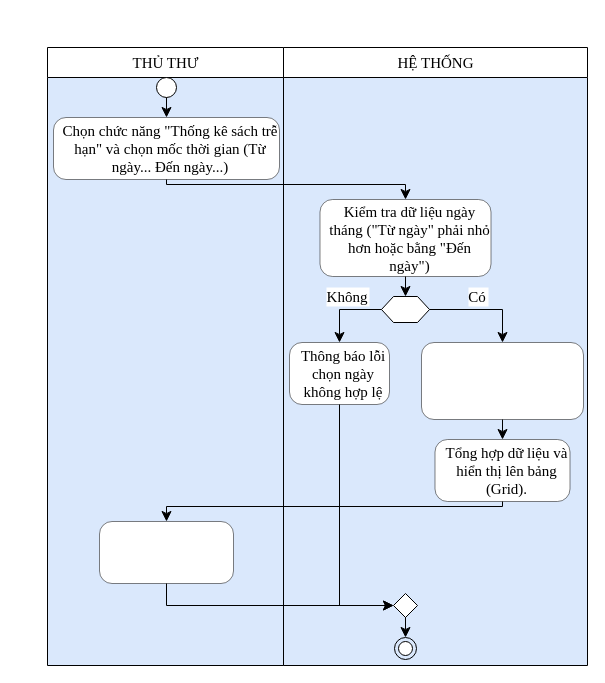
The diagram is 605 pixels wide and 683 high, and some of its shapes have lost their labels. Each missing label, with the centre of its shape:
Hợp lệ?: the point at 405,309
Truy vấn CSDL (bảng ChiTietPhieuMuon) tìm các sách chưa trả và quá hạn.: the point at 502,380
Xem danh sách báo cáo và xuất file (Excel/PDF).: the point at 166,552
